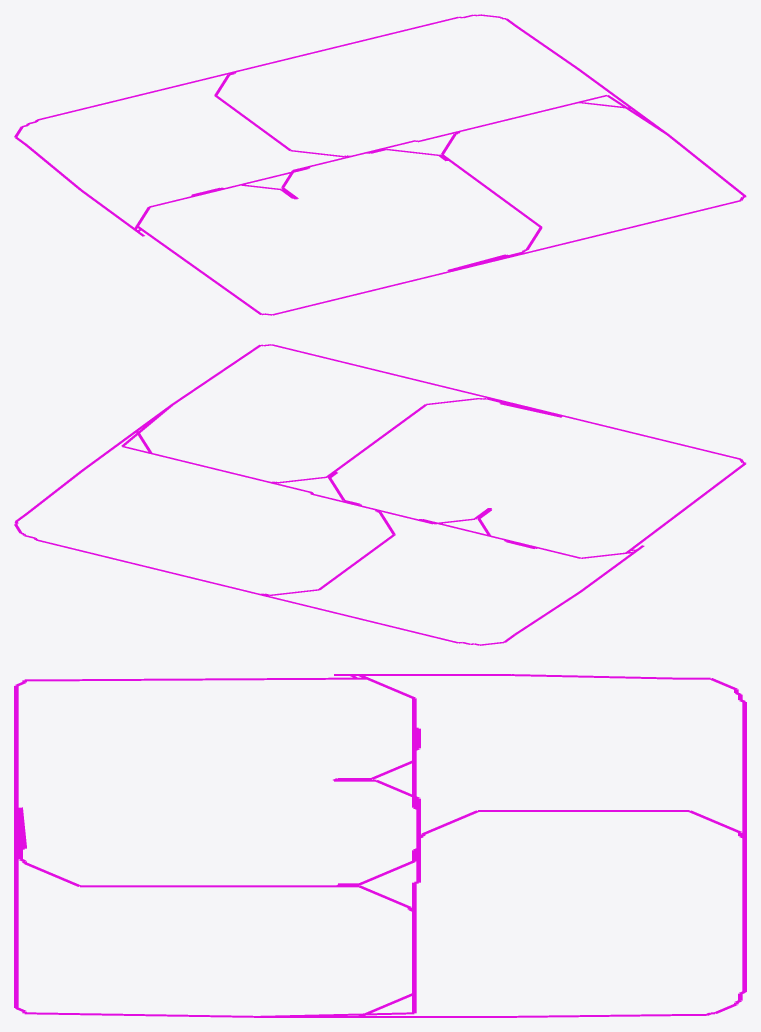
File: route_overlay_code_transform_magenta.dae
3 renders of one model, top to bottom at view 1: azimuth 30°, elevation 25°; view 2: azimuth 150°, elevation 25°; view 3: azimuth 270°, elevation 25°, orthographic. The views are drawn at different scales.
Parts seen in each view (by area): view 1: route_preview_node; view 2: route_preview_node; view 3: route_preview_node.
Boxes of the visible parts, <box> form: route_preview_node: <box>14,14,746,315</box>; route_preview_node: <box>14,344,746,645</box>; route_preview_node: <box>14,674,746,1017</box>.
Bounding box in the file's own units: 4.5 × 4.06 × 0.
